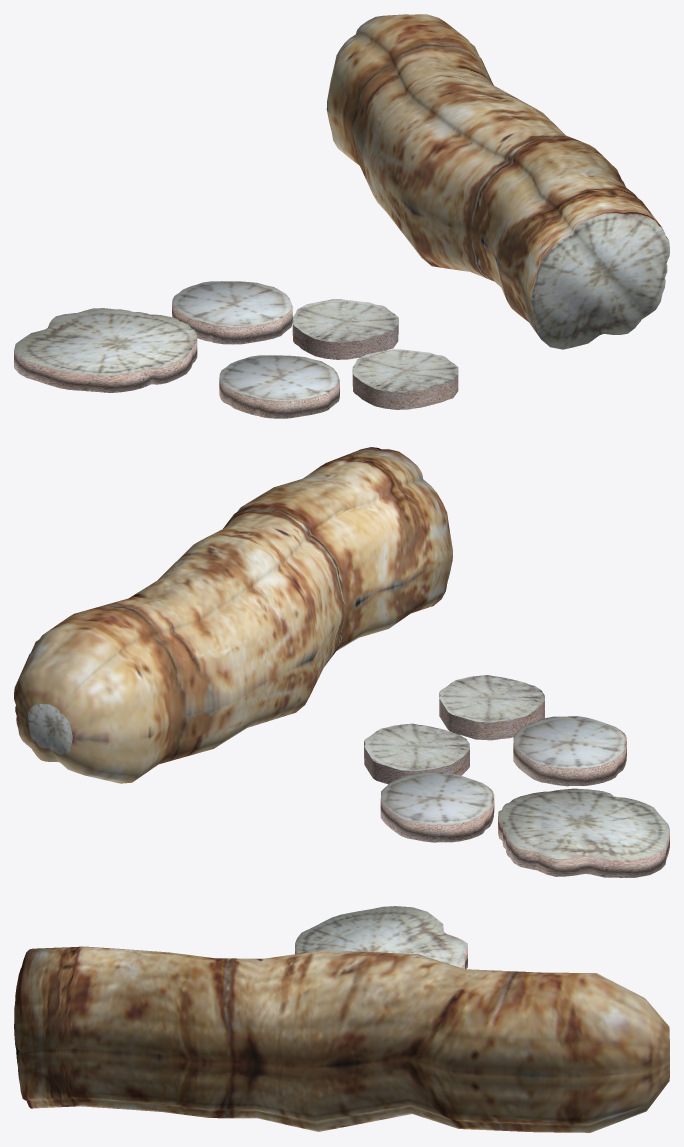
Rendered from fangyi.FBX.
The picture shows the model from 3 angles, top to bottom: view 1: azimuth 30°, elevation 25°; view 2: azimuth 150°, elevation 25°; view 3: azimuth 270°, elevation 25°; orthographic projection. The views are drawn at different scales.
Parts seen in each view (by area): view 1: Line006, Line001, Line004, Line002, Line005, Line003; view 2: Line006, Line001, Line002, Line004, Line005, Line003; view 3: Line006, Line001.
Part boxes in pixels (bbox=[...]): Line006: bbox=[326, 14, 669, 349]; Line001: bbox=[14, 308, 197, 392]; Line004: bbox=[219, 355, 339, 418]; Line002: bbox=[172, 281, 292, 344]; Line005: bbox=[352, 349, 458, 409]; Line003: bbox=[292, 299, 398, 359]; Line006: bbox=[14, 447, 452, 783]; Line001: bbox=[498, 788, 669, 877]; Line002: bbox=[380, 772, 494, 842]; Line004: bbox=[513, 716, 626, 786]; Line005: bbox=[439, 675, 544, 740]; Line003: bbox=[364, 723, 469, 784]; Line006: bbox=[14, 946, 669, 1132]; Line001: bbox=[295, 906, 467, 969].
Bounding box in the file's own units: 51.04 × 17.27 × 49.65.
